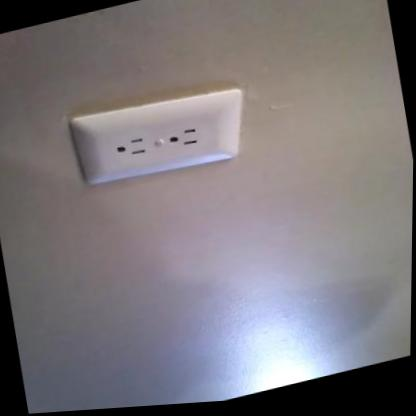OUTLET: (72, 81, 252, 194)
